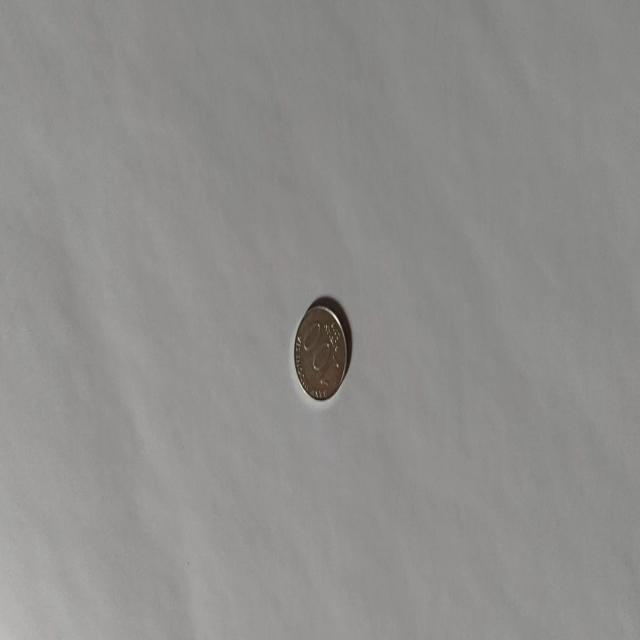seratus rupiah: (292, 301, 348, 402)
